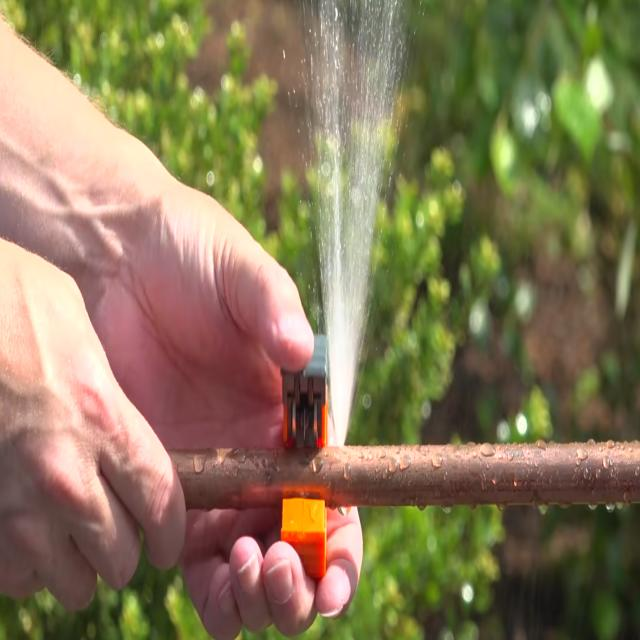leak: (310, 0, 405, 444)
